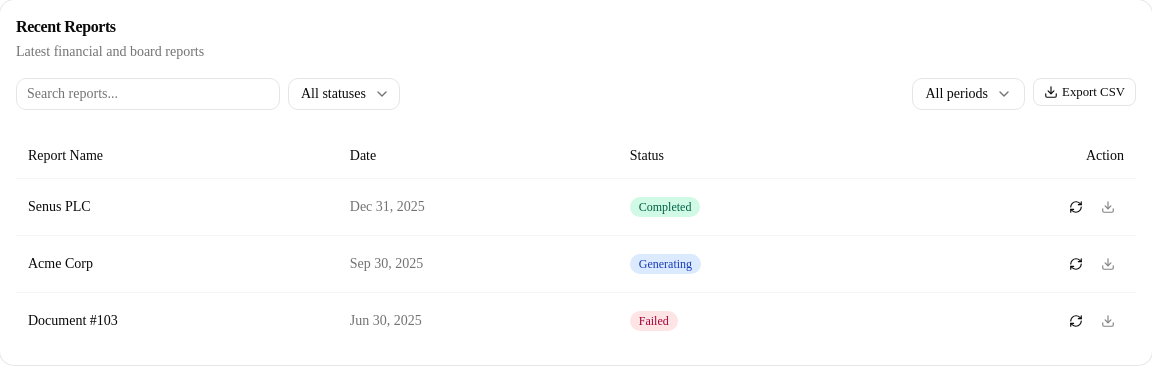
ReportsTable › filters by status
Click the dropdown named "Filter by status": click(344, 94) top-left (288, 78), bottom-right (400, 110)
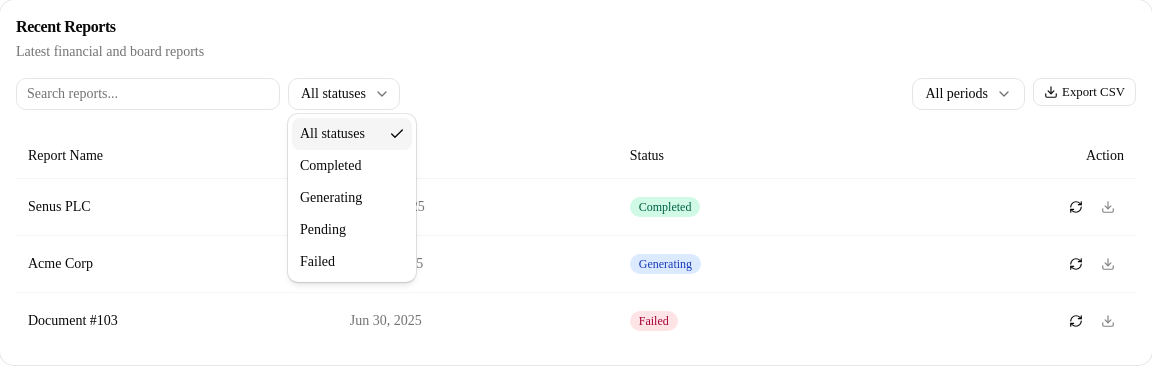
Click the option "Failed": click(318, 262) top-left (300, 254), bottom-right (335, 269)
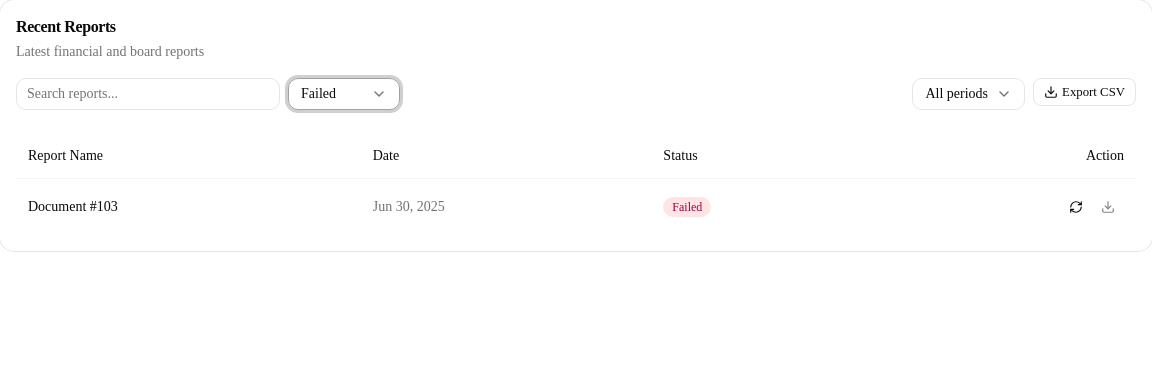
Check: the text "Document #103" is shown, box top-left (16, 178), bottom-right (361, 234)
Check: the text "Senus PLC" is gone
